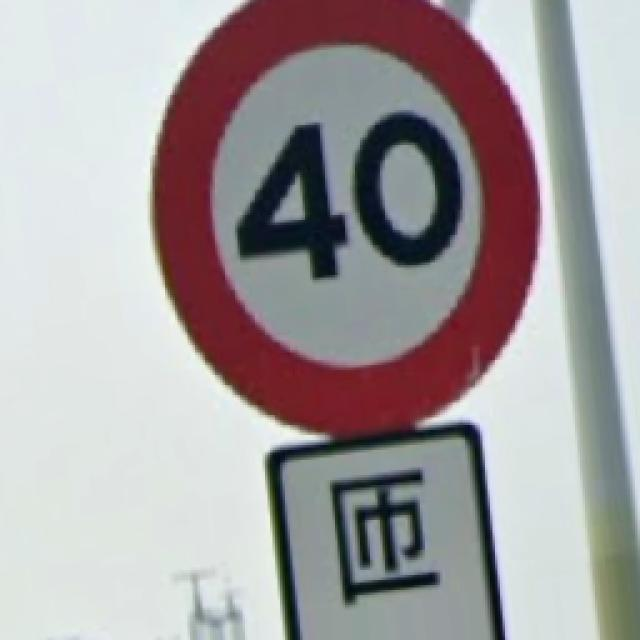Speed Limit -40-: (155, 0, 538, 432)
